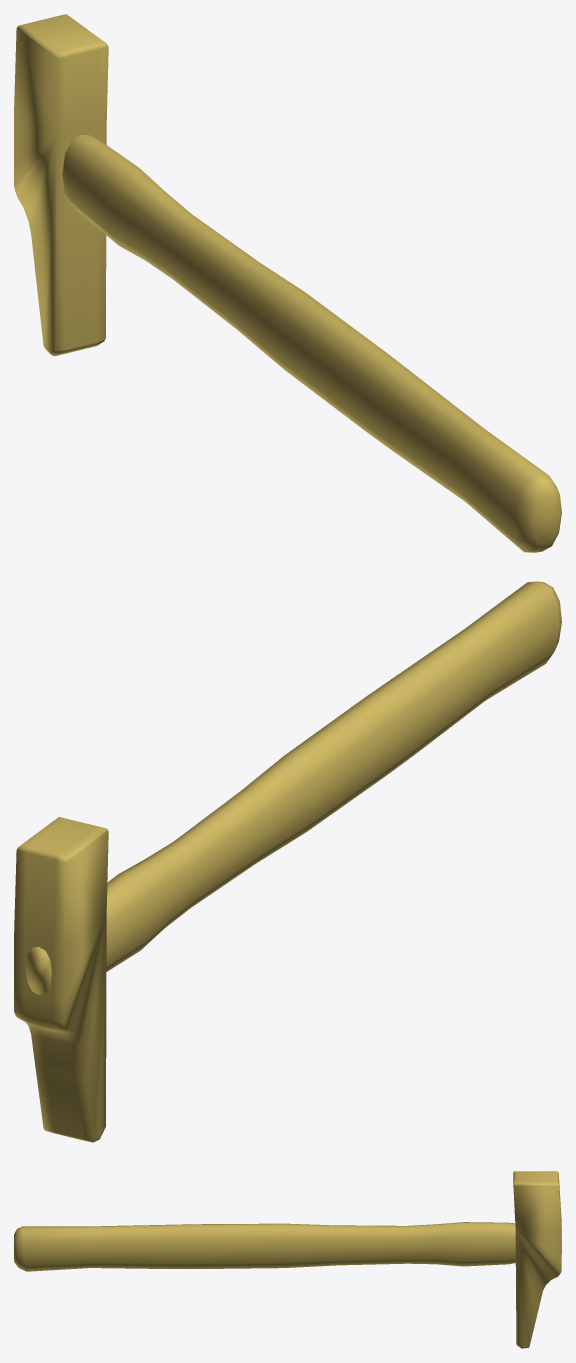
Rendered from hammer.obj.
The picture shows the model from 3 angles, top to bottom: view 1: azimuth 30°, elevation 25°; view 2: azimuth 150°, elevation 25°; view 3: azimuth 270°, elevation 25°; orthographic projection. The views are drawn at different scales.
Visible parts, largest first — view 1: handle, head; view 2: handle, head; view 3: handle, head.
Boxes of the visible parts, left/top/right/bottom form: handle: left=62, top=134, right=561, bottom=552; head: left=14, top=14, right=108, bottom=356; handle: left=25, top=581, right=561, bottom=994; head: left=14, top=817, right=108, bottom=1142; handle: left=14, top=1222, right=561, bottom=1271; head: left=513, top=1171, right=561, bottom=1348.
Bounding box in the file's own units: 5.4 × 31.75 × 94.85.
